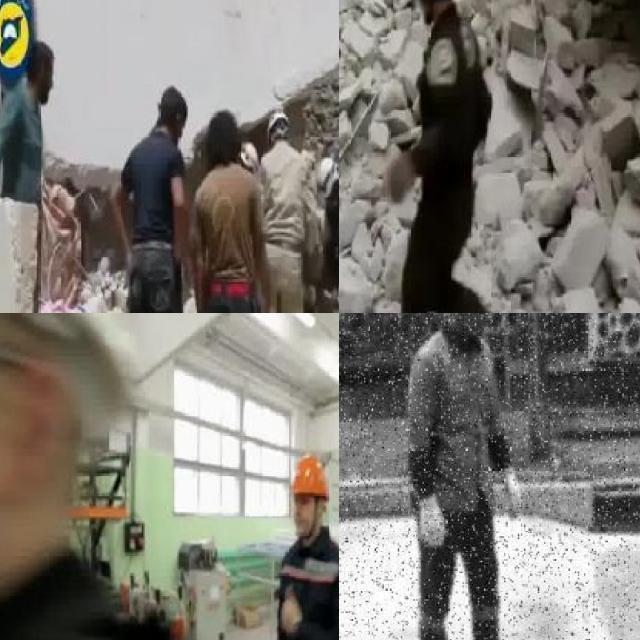apron: (414, 488, 449, 556), (494, 464, 523, 524)
